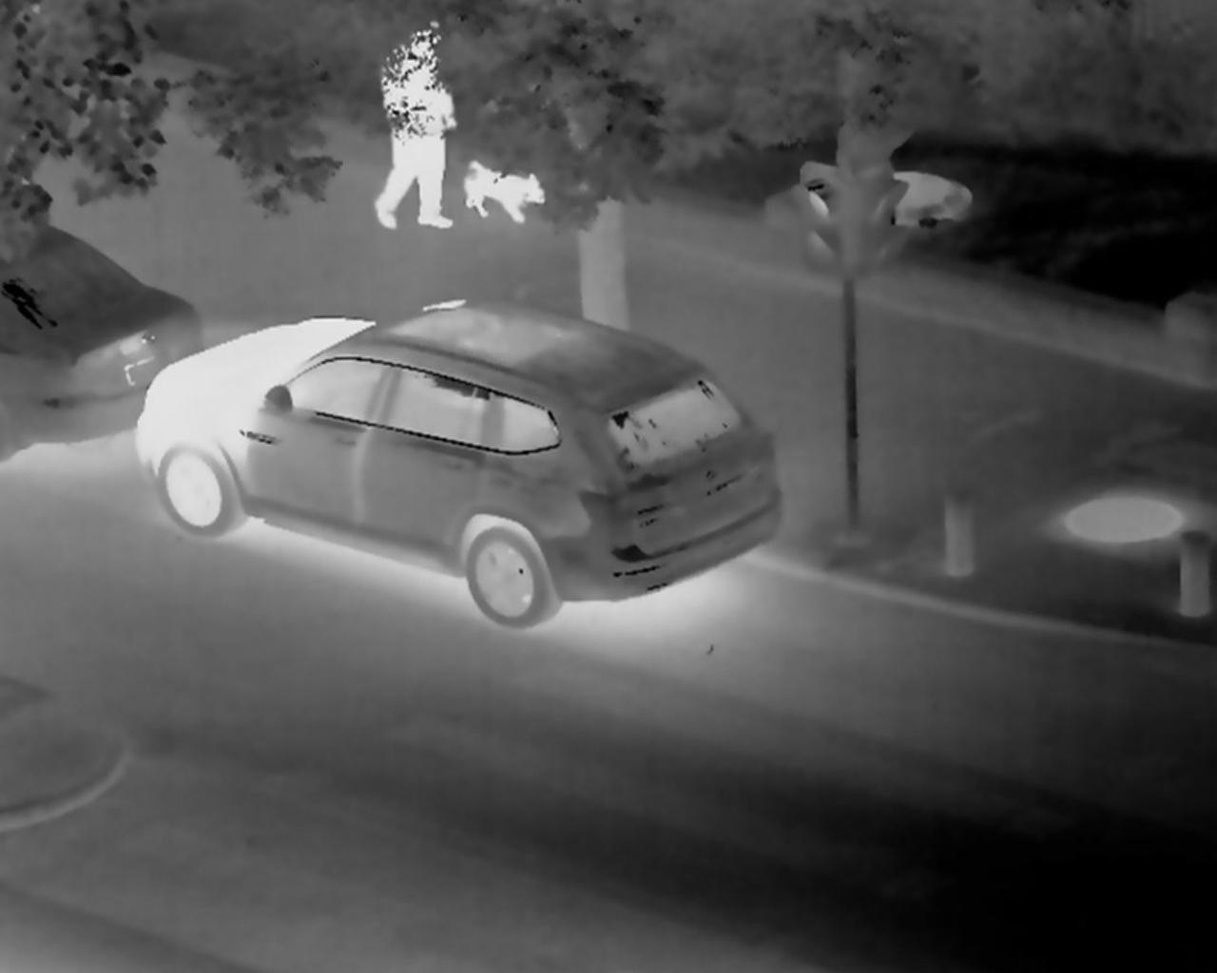person: (373, 23, 474, 240)
